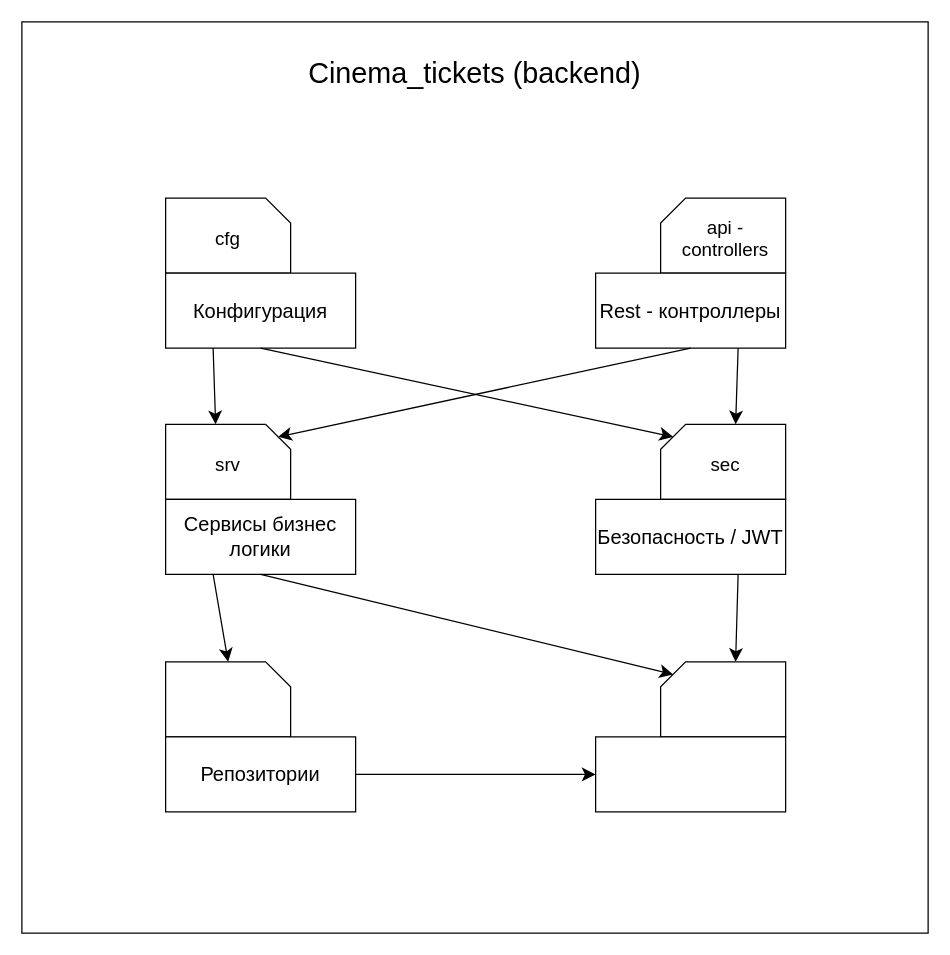
Image size: 950x955. Some labels were removed from this diagram. Each missing label, with the box of its shape:
model: (659, 661, 786, 737)
ORM модели: (594, 736, 786, 812)
repo: (164, 661, 291, 737)
